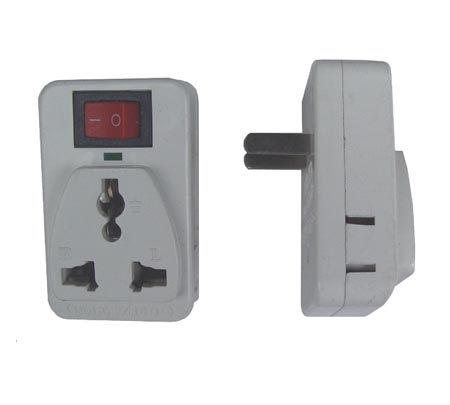Three_eye_plug: (237, 55, 420, 323), (34, 73, 205, 325)
